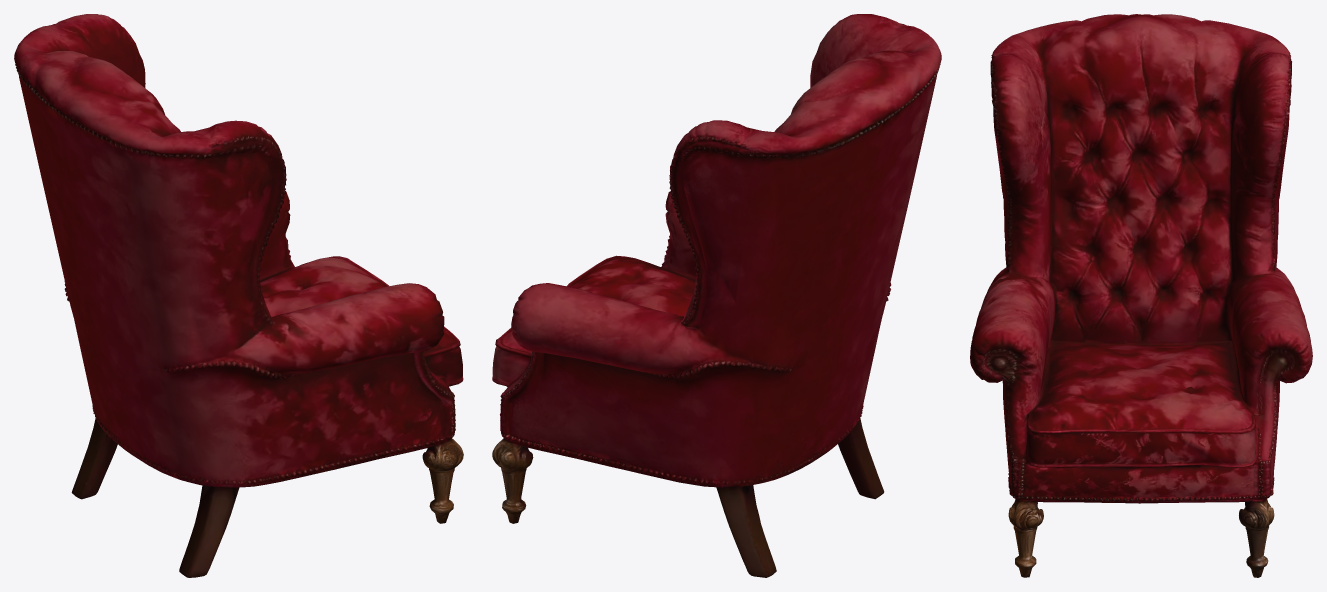
File: sillon.glb
3 views of the same model, side by side, from view 1: azimuth 30°, elevation 25°; view 2: azimuth 150°, elevation 25°; view 3: azimuth 270°, elevation 25° (orthographic). The views are drawn at different scales.
Parts seen in each view (by area): view 1: tripo_node_153017ca-2b6d-46bf-89c3-334754ed3f00; view 2: tripo_node_153017ca-2b6d-46bf-89c3-334754ed3f00; view 3: tripo_node_153017ca-2b6d-46bf-89c3-334754ed3f00.
Boxes of the visible parts, left/top/right/bottom form: tripo_node_153017ca-2b6d-46bf-89c3-334754ed3f00: left=14, top=14, right=463, bottom=577; tripo_node_153017ca-2b6d-46bf-89c3-334754ed3f00: left=492, top=14, right=941, bottom=577; tripo_node_153017ca-2b6d-46bf-89c3-334754ed3f00: left=970, top=14, right=1312, bottom=577.
Size of the model in its own units: 0.7796 by 0.9998 by 0.7175.
Materials: 1 (1 with a texture image).
